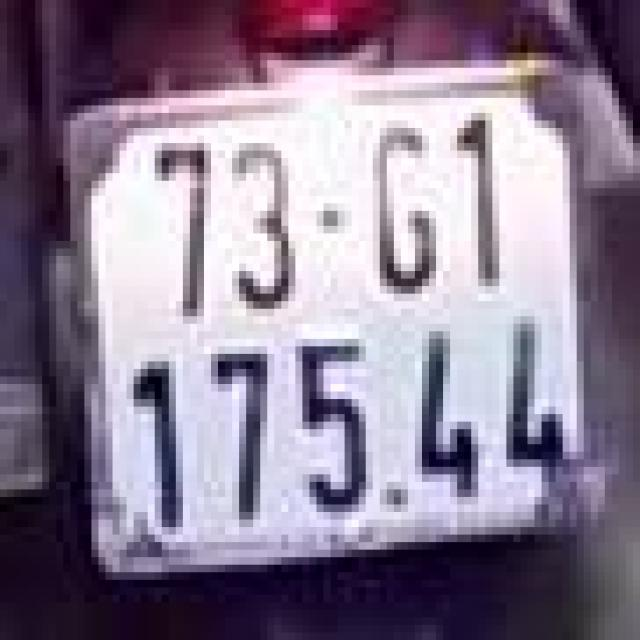1: (123, 350, 193, 538), (453, 105, 502, 294)
3: (228, 132, 299, 312)
4: (496, 301, 573, 497), (411, 320, 482, 501)
5: (295, 331, 373, 512)
7: (144, 136, 222, 324), (207, 342, 278, 530)
G: (369, 120, 440, 308)
